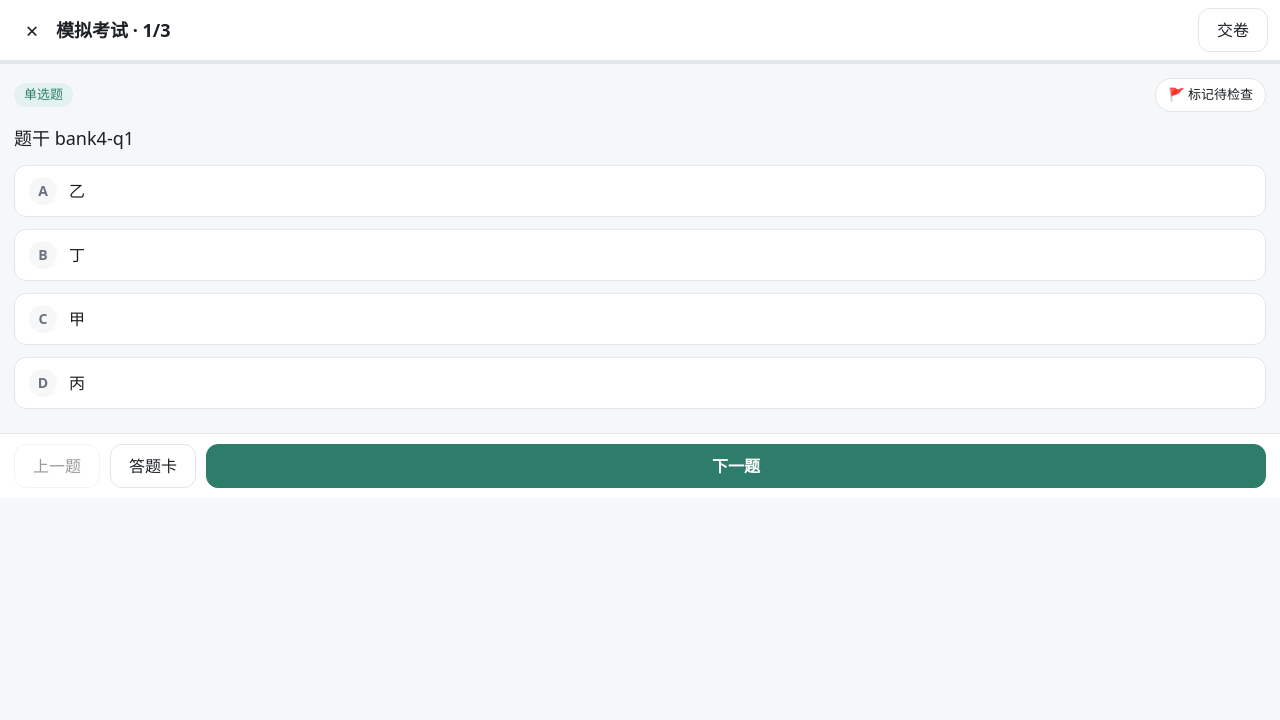
Test: ExamView › answers, marks, hands in, shows the score and leaves a synced-later record
Click the button with class "option" showing "A 乙". click: (43, 191)
box: [14,165,1266,217]
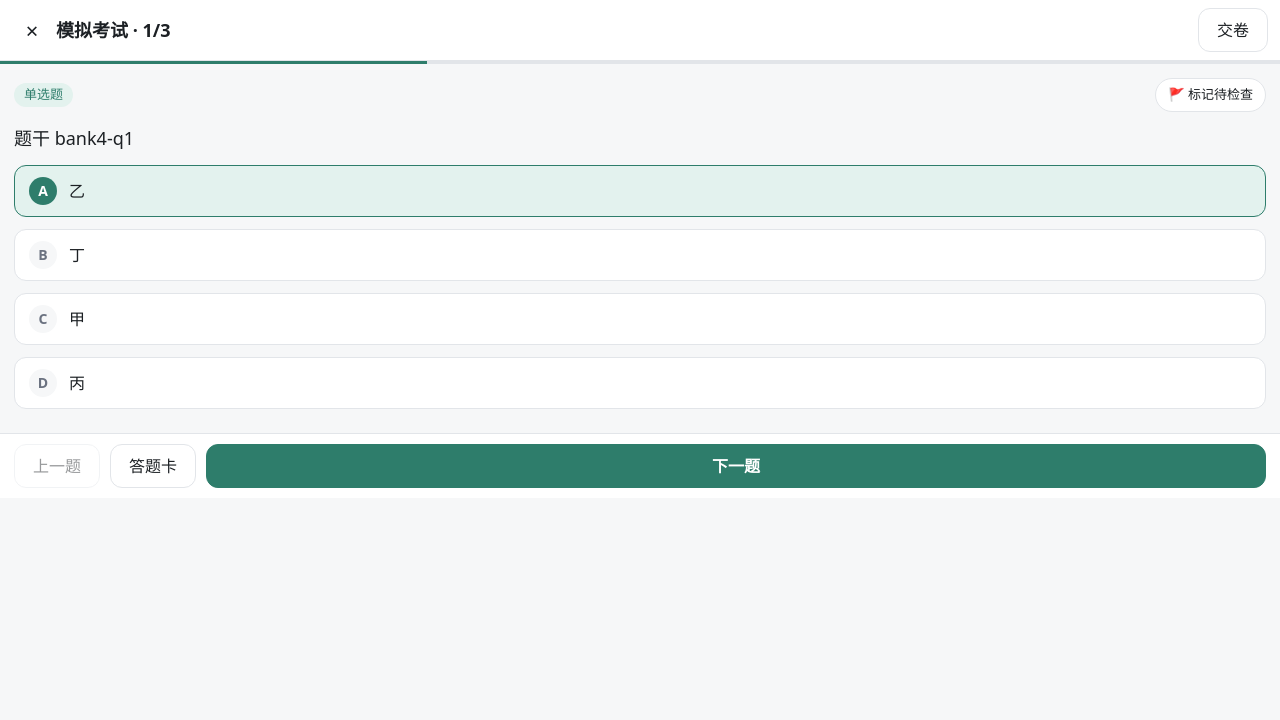
Click the button "🚩 标记待检查". click: (1211, 95)
box: [1155,78,1266,112]
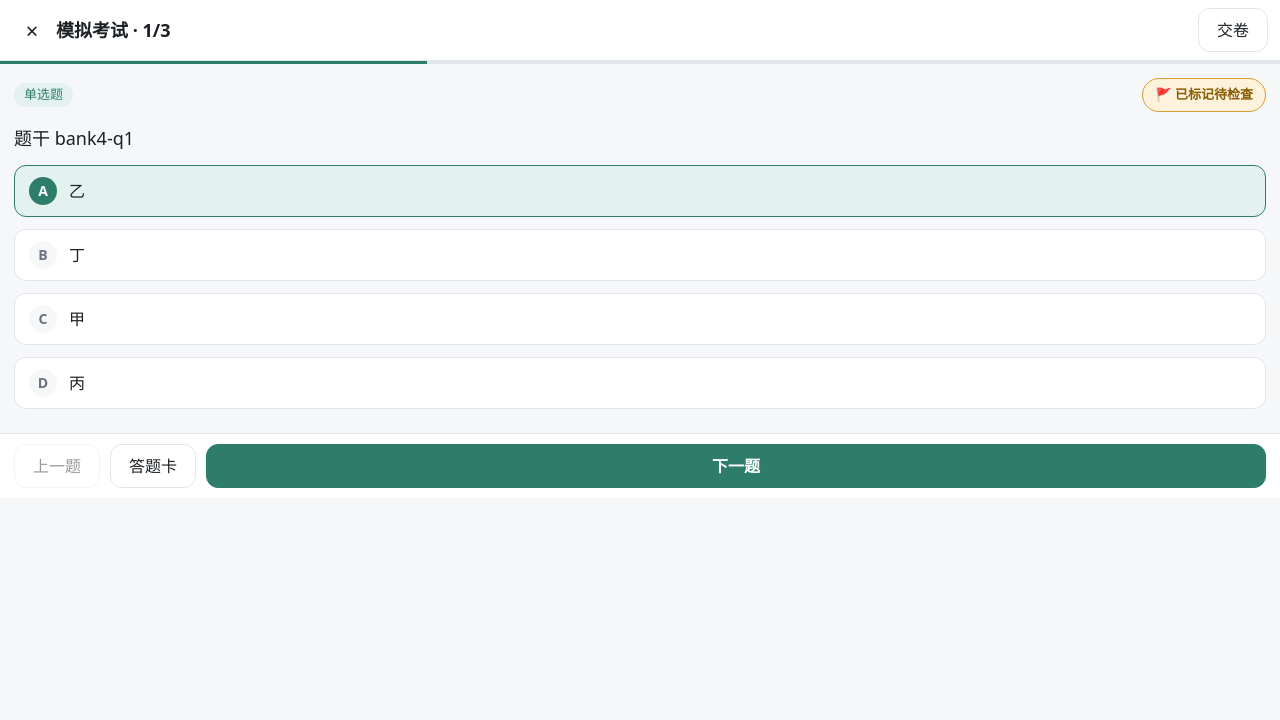
Expected: the text "已标记待检查" is shown, [1142,78,1266,112]
Click the button "下一题". click: (736, 466)
box: [206,444,1266,488]
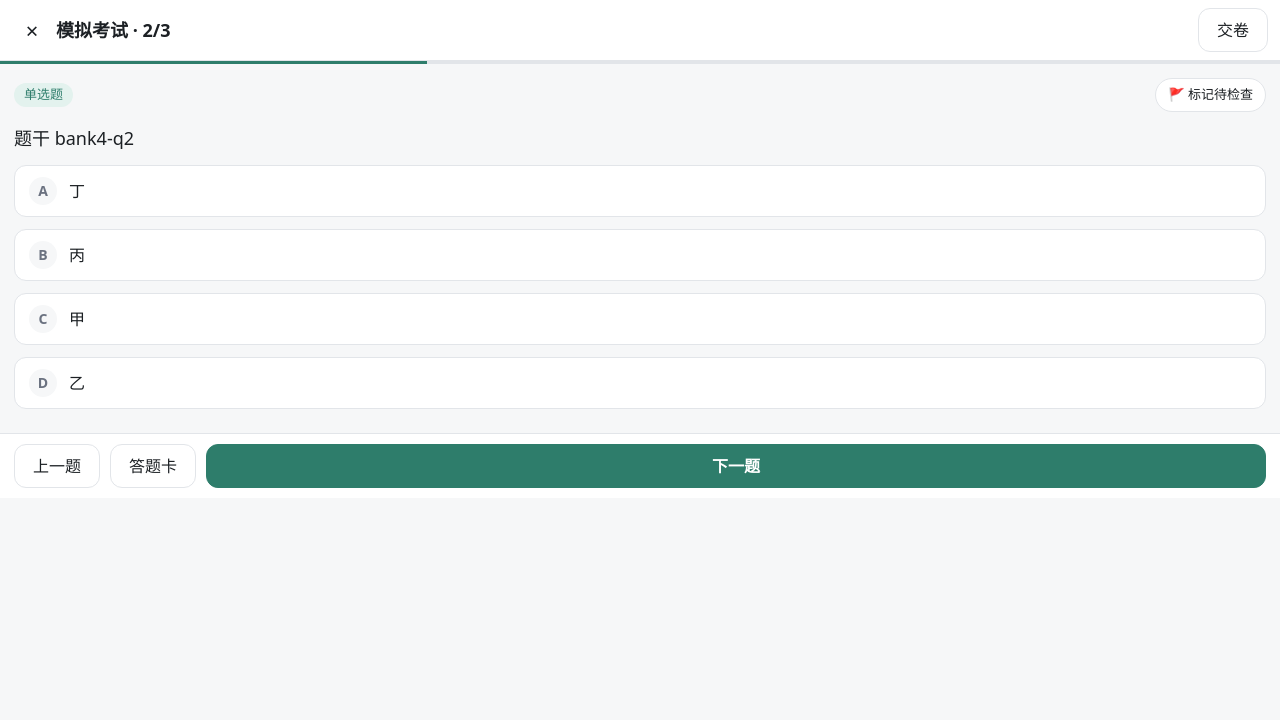
Expected: the text "模拟考试 · 2/3" is shown, [56,18,170,42]
Click the button "答题卡". click: (153, 466)
box: [110,444,196,488]
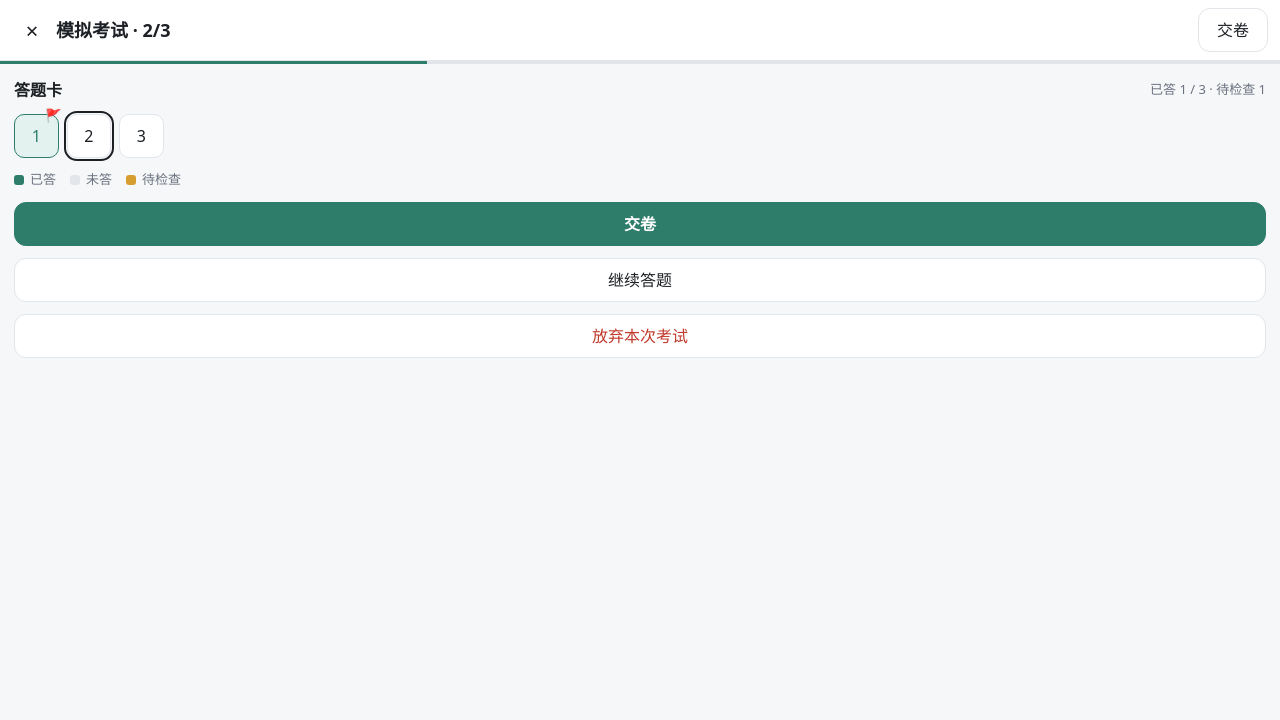
Expected: the text "已答 1 / 3" is shown, [1150,80,1206,98]
Expected: the text "待检查 1" is shown, [1206,80,1266,98]
Expected: the button with class "marked" is shown, [14,114,58,158]
Click the button "交卷" below "未答". click: (640, 224)
box: [14,202,1266,246]
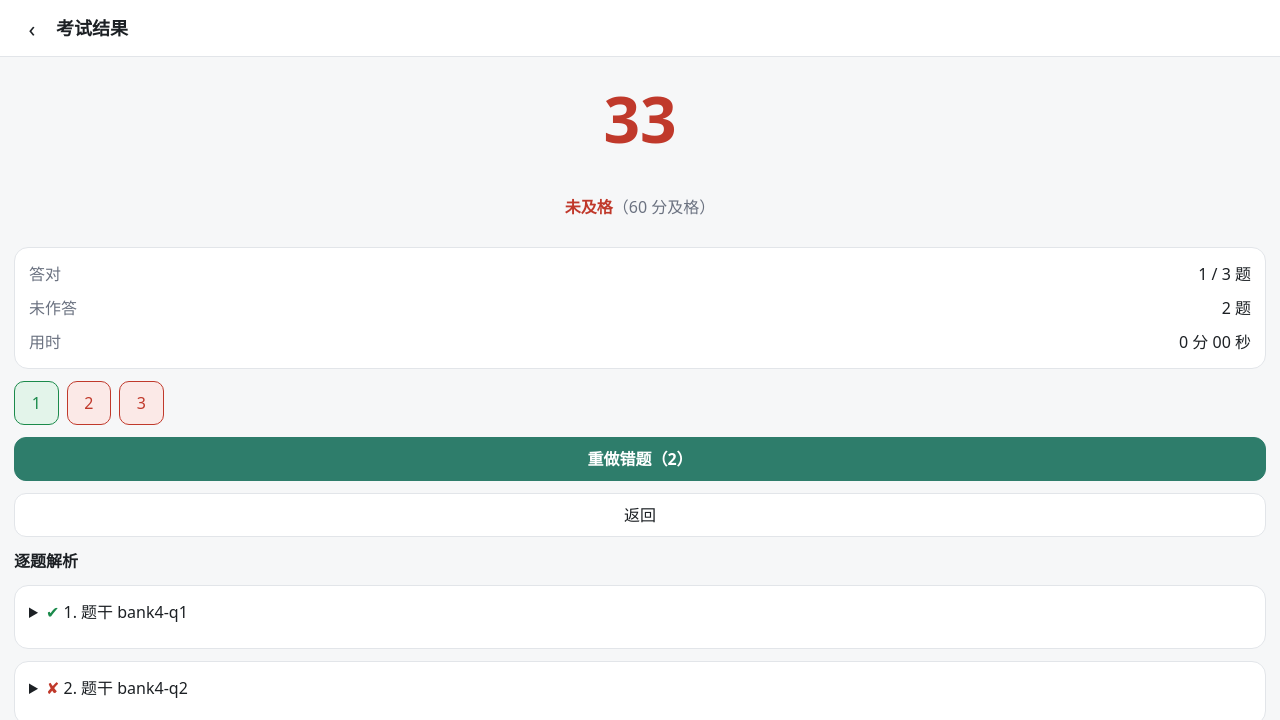
Expected: the text "考试结果" is shown, [56,16,128,40]
Expected: the text "33" is shown, [603,75,677,162]
Expected: the text "逐题解析" is shown, [14,550,78,572]
